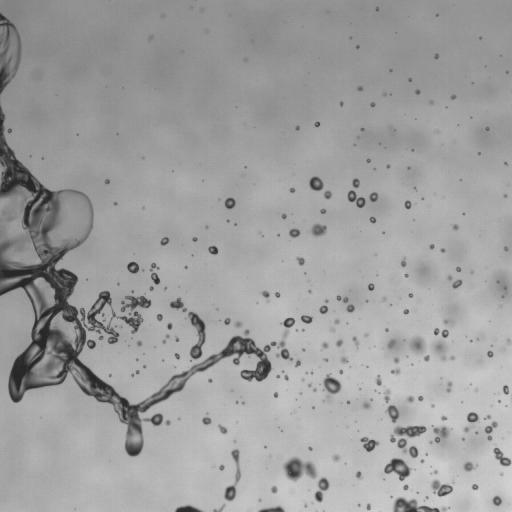droplet: (110, 295, 151, 333), (390, 425, 426, 457), (283, 457, 317, 481), (384, 458, 412, 480), (409, 336, 429, 361), (322, 374, 341, 400), (431, 479, 452, 496), (463, 412, 479, 432), (432, 425, 450, 442), (360, 437, 379, 451), (484, 421, 497, 440), (170, 298, 187, 311), (386, 405, 399, 422), (309, 176, 323, 190), (311, 224, 326, 236), (127, 262, 138, 273), (225, 197, 235, 208), (463, 462, 475, 471), (289, 228, 300, 237), (452, 279, 462, 288), (492, 496, 502, 505), (301, 315, 312, 323), (202, 416, 211, 425), (208, 246, 218, 254), (369, 192, 377, 201), (160, 237, 169, 245), (387, 339, 395, 348), (218, 425, 227, 433), (352, 178, 359, 188), (319, 305, 327, 313), (346, 304, 354, 312), (324, 190, 331, 199), (391, 368, 400, 375), (375, 375, 381, 385), (404, 200, 411, 208), (297, 257, 304, 265), (340, 356, 348, 363), (363, 401, 370, 409), (355, 471, 362, 479), (503, 385, 509, 394), (447, 382, 452, 392), (262, 291, 269, 298), (332, 454, 339, 461), (234, 321, 242, 327), (368, 283, 374, 290), (336, 339, 342, 346), (321, 342, 328, 348), (407, 396, 414, 402), (271, 486, 277, 493), (401, 258, 406, 266), (156, 314, 162, 320), (224, 318, 230, 324), (487, 351, 493, 357), (393, 357, 399, 363), (472, 484, 478, 490), (370, 216, 375, 223), (295, 360, 300, 367), (403, 309, 409, 314), (167, 323, 172, 329), (174, 353, 179, 359), (219, 464, 224, 470), (453, 224, 458, 229), (429, 244, 434, 249), (334, 319, 339, 324), (418, 396, 423, 401), (165, 420, 170, 425), (403, 485, 408, 490), (137, 340, 141, 346), (284, 374, 288, 380), (441, 416, 447, 420), (357, 86, 362, 90), (370, 102, 374, 107), (314, 122, 319, 126), (289, 188, 294, 192), (320, 209, 325, 213), (281, 214, 286, 218), (192, 237, 197, 241), (275, 292, 279, 297), (408, 293, 413, 297), (507, 339, 511, 344), (274, 392, 278, 397), (485, 415, 490, 419), (366, 504, 370, 509), (434, 54, 438, 58), (415, 90, 419, 94), (451, 95, 455, 99), (105, 179, 109, 183), (440, 248, 444, 252), (456, 267, 460, 271), (149, 286, 153, 290), (330, 327, 334, 331), (450, 356, 454, 360), (432, 470, 437, 473), (296, 126, 299, 130), (366, 159, 370, 162), (448, 276, 451, 280), (175, 337, 179, 340), (208, 378, 211, 382), (340, 102, 343, 105), (486, 127, 489, 130), (8, 129, 11, 132), (504, 247, 507, 250), (382, 298, 385, 301), (364, 333, 367, 336), (339, 370, 342, 373), (308, 383, 311, 386), (308, 447, 311, 450), (420, 459, 423, 462), (430, 100, 432, 103), (386, 165, 389, 167), (114, 202, 116, 205), (8, 216, 11, 218), (405, 274, 407, 277), (308, 290, 311, 292), (325, 300, 328, 302), (385, 329, 388, 331), (324, 358, 327, 360), (136, 371, 139, 373), (131, 374, 134, 376), (276, 375, 279, 377), (383, 93, 385, 95), (361, 128, 363, 130), (504, 195, 506, 197), (15, 203, 17, 205), (164, 287, 166, 289), (313, 389, 315, 391), (347, 401, 349, 403), (431, 404, 433, 406), (462, 438, 464, 440), (501, 473, 503, 475), (425, 497, 427, 499), (358, 504, 360, 506)
ligament: (0, 105, 292, 456), (0, 13, 21, 93), (431, 319, 453, 360), (224, 449, 241, 501), (188, 312, 205, 360), (392, 497, 448, 511), (314, 477, 329, 502), (493, 446, 511, 466), (347, 190, 365, 207), (150, 263, 159, 284), (174, 505, 202, 511), (258, 506, 285, 511), (384, 389, 390, 402), (213, 504, 224, 511), (336, 296, 348, 302), (352, 337, 359, 346), (476, 334, 483, 341), (163, 334, 169, 342)
